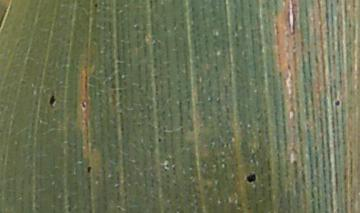tarspot: (245, 173, 257, 183), (85, 163, 92, 175), (49, 94, 55, 107), (333, 98, 341, 107), (92, 2, 100, 9), (156, 136, 163, 144), (313, 144, 319, 151)
